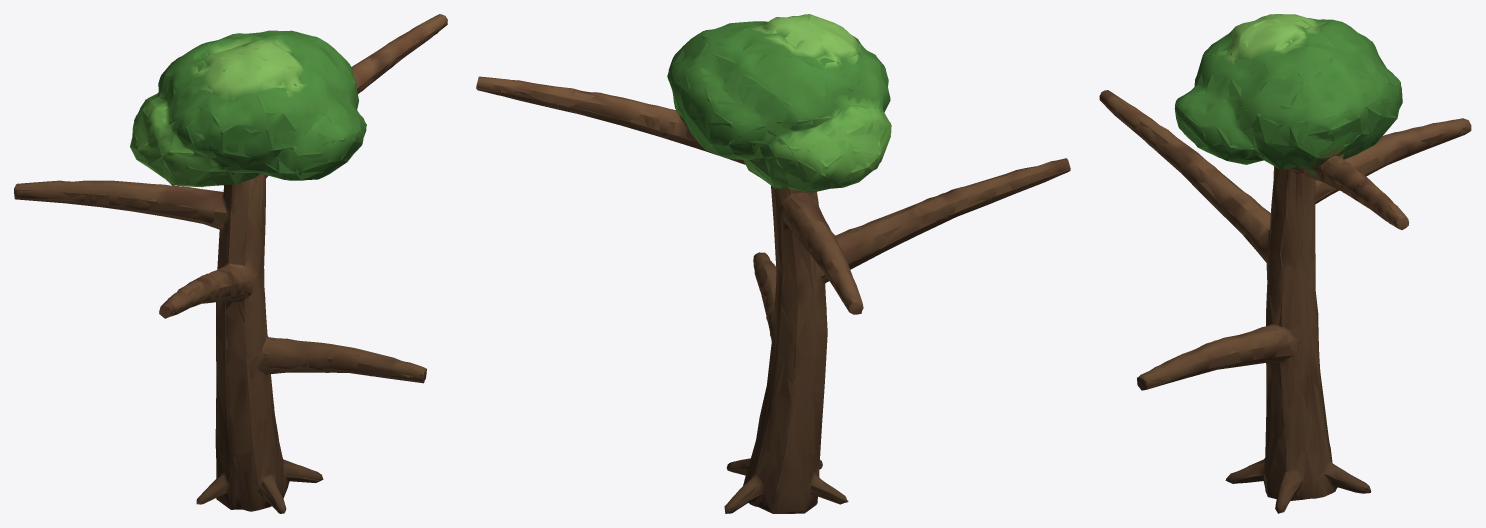
The model's file is broadleaf_sidebranches.glb.
3 renders of one model, left to right at view 1: azimuth 30°, elevation 25°; view 2: azimuth 150°, elevation 25°; view 3: azimuth 270°, elevation 25°, orthographic. The views are drawn at different scales.
Parts seen in each view (by area): view 1: broadleaf_sidebranches_LOD1, broadleaf_sidebranches_LOD2; view 2: broadleaf_sidebranches_LOD1, broadleaf_sidebranches_LOD2; view 3: broadleaf_sidebranches_LOD1, broadleaf_sidebranches_LOD2.
Boxes of the visible parts, x1,y1,x2,y2 form: broadleaf_sidebranches_LOD1: (14, 14, 447, 513); broadleaf_sidebranches_LOD2: (14, 19, 447, 513); broadleaf_sidebranches_LOD1: (476, 14, 1070, 513); broadleaf_sidebranches_LOD2: (476, 15, 1070, 513); broadleaf_sidebranches_LOD1: (1099, 14, 1471, 513); broadleaf_sidebranches_LOD2: (1101, 14, 1471, 513).
Bounding box in the file's own units: 3.99 × 4.06 × 2.91.
